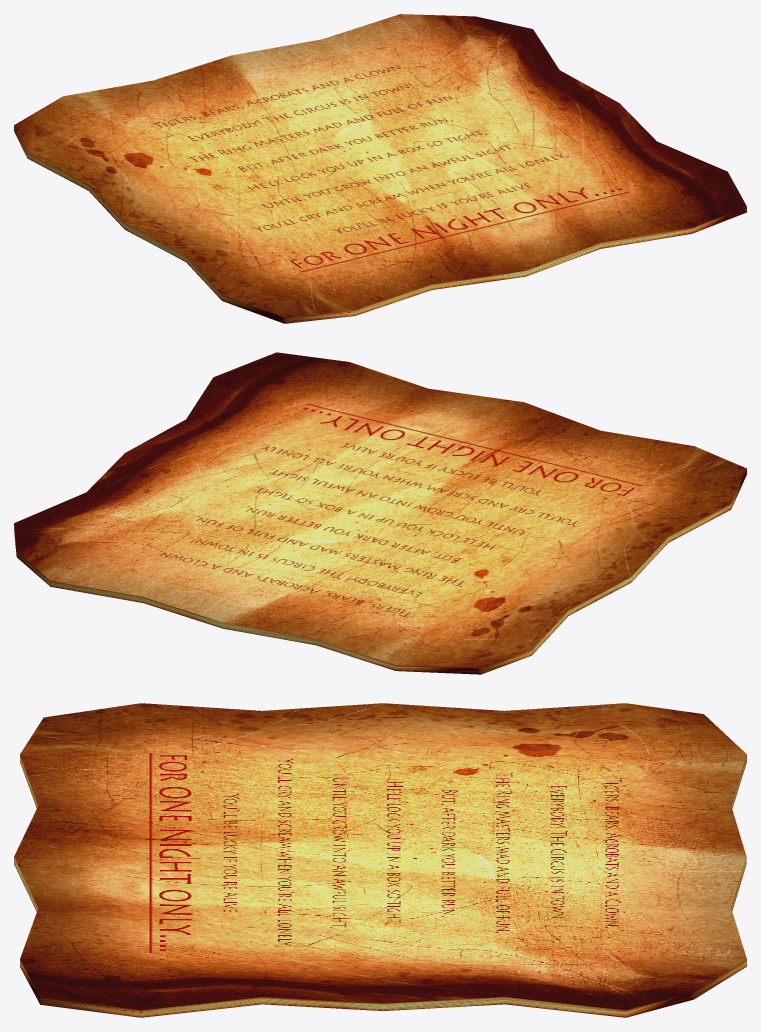
Rendered from Paper Poem.FBX.
3 views of the same model, one above another, from view 1: azimuth 30°, elevation 25°; view 2: azimuth 150°, elevation 25°; view 3: azimuth 270°, elevation 25° (orthographic). The views are drawn at different scales.
Visible parts, largest first — view 1: Box001; view 2: Box001; view 3: Box001.
Part boxes in pixels (x1=…): Box001: x1=14, y1=14, x2=746, y2=323; Box001: x1=14, y1=352, x2=746, y2=674; Box001: x1=14, y1=703, x2=746, y2=1017.
Bounding box in the file's own units: 109 × 1.22 × 110.
2 materials, 2 textured.
